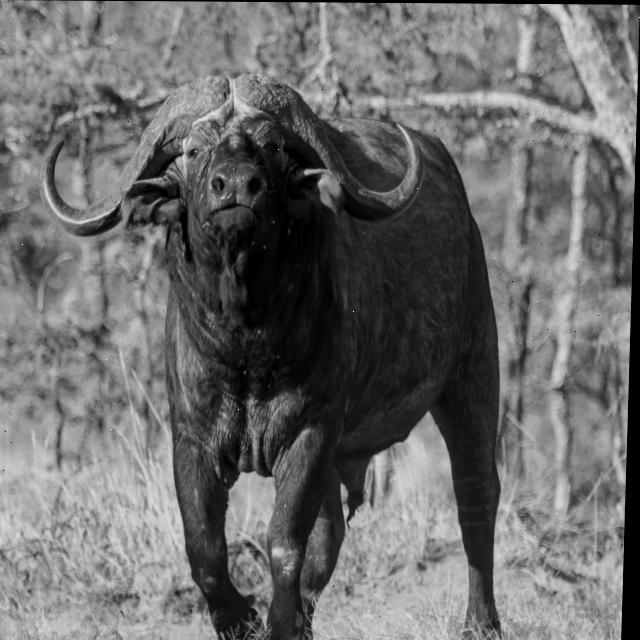Buffalo: (25, 73, 514, 640)
